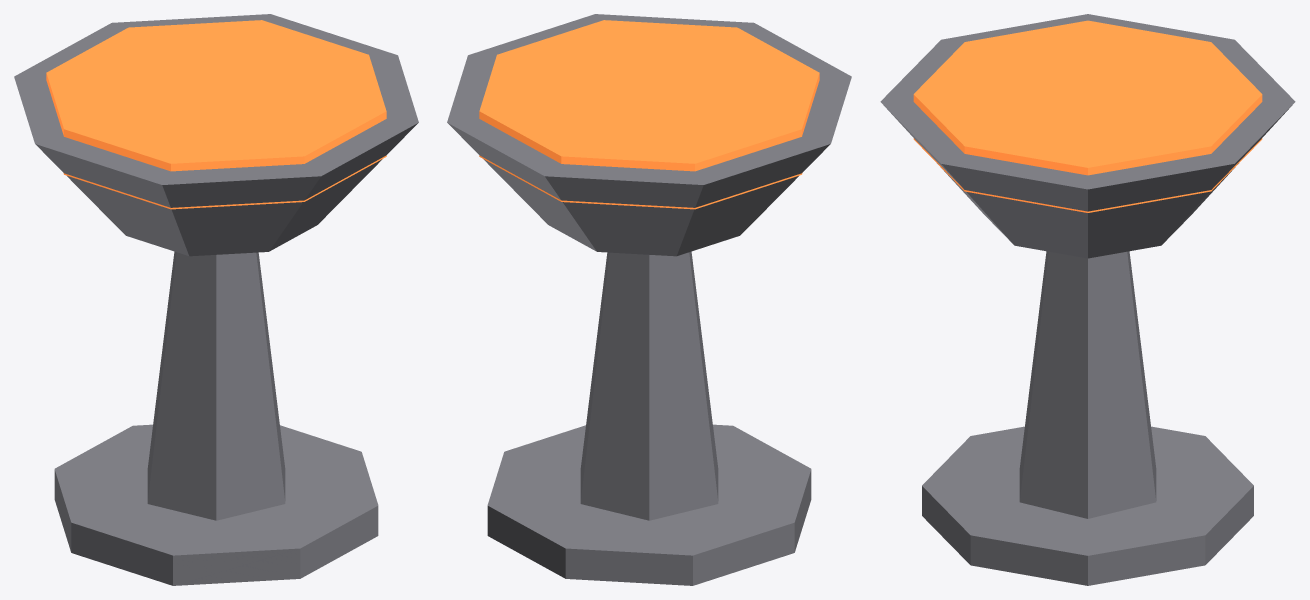
File: Жаровня.glb
3 renders of one model, left to right at view 1: azimuth 30°, elevation 25°; view 2: azimuth 150°, elevation 25°; view 3: azimuth 270°, elevation 25°, orthographic.
Visible parts, largest first — view 1: Жаровня; view 2: Жаровня; view 3: Жаровня.
Part boxes in pixels (<box>): Жаровня: <box>14,14,418,585</box>; Жаровня: <box>447,14,851,585</box>; Жаровня: <box>880,14,1295,585</box>.
Bounding box in the file's own units: 1 × 1.12 × 1.
